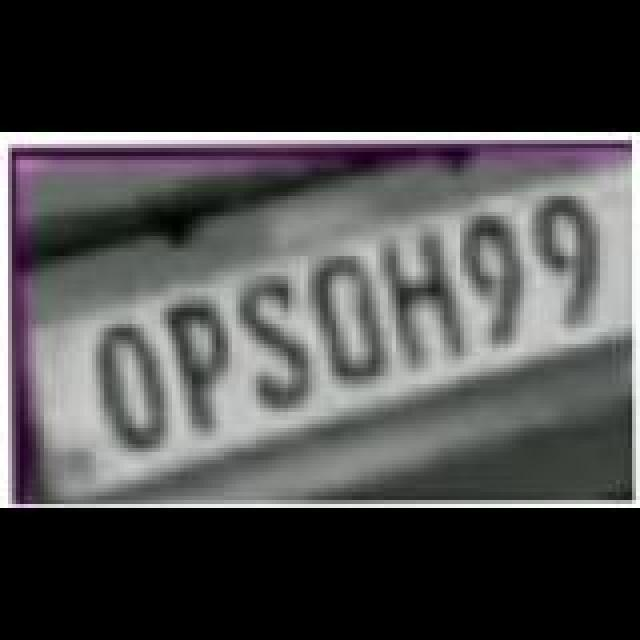9: (538, 198, 606, 330), (462, 214, 530, 346)
D: (310, 260, 394, 388)
H: (380, 232, 468, 368)
O: (98, 322, 174, 454)
P: (166, 302, 242, 434)
S: (242, 278, 318, 410)
